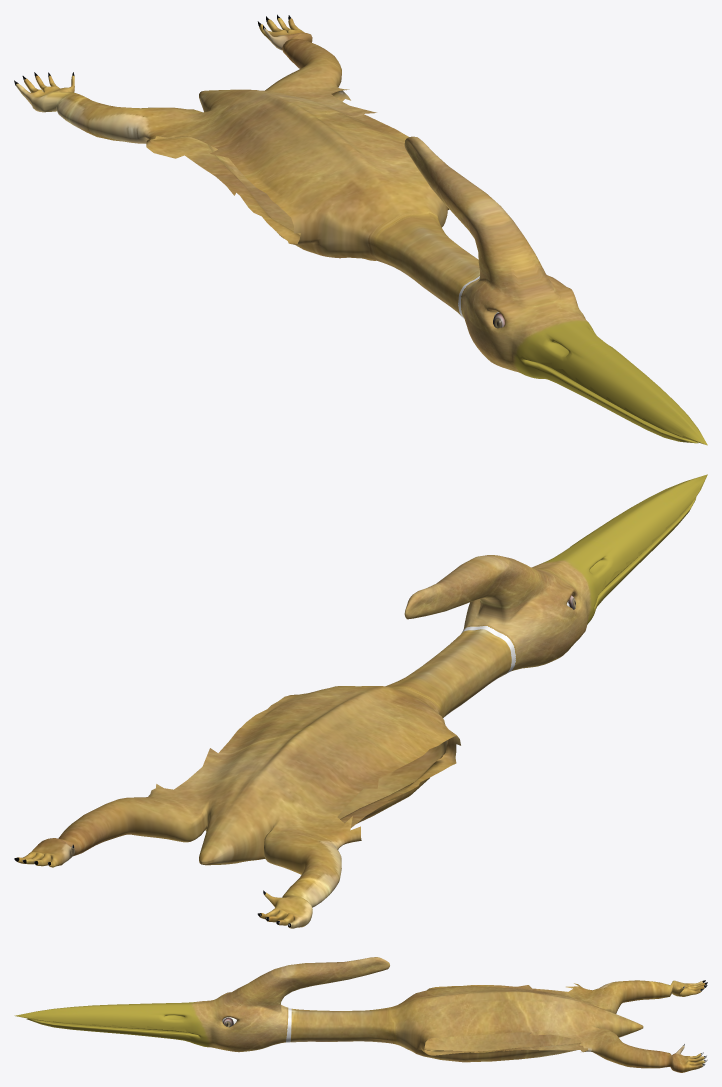
The model's file is torso.obj.
The picture shows the model from 3 angles, top to bottom: view 1: azimuth 30°, elevation 25°; view 2: azimuth 150°, elevation 25°; view 3: azimuth 270°, elevation 25°; orthographic projection. The views are drawn at different scales.
Visible parts, largest first — view 1: Pteranadon; view 2: Pteranadon; view 3: Pteranadon.
Part boxes in pixels (x1,y1,x2,y2): Pteranadon: [14, 14, 707, 445]; Pteranadon: [14, 474, 707, 928]; Pteranadon: [14, 957, 707, 1072].
Size of the model in its own units: 17.93 by 9.49 by 62.56.
Materials: 1 (1 with a texture image).
